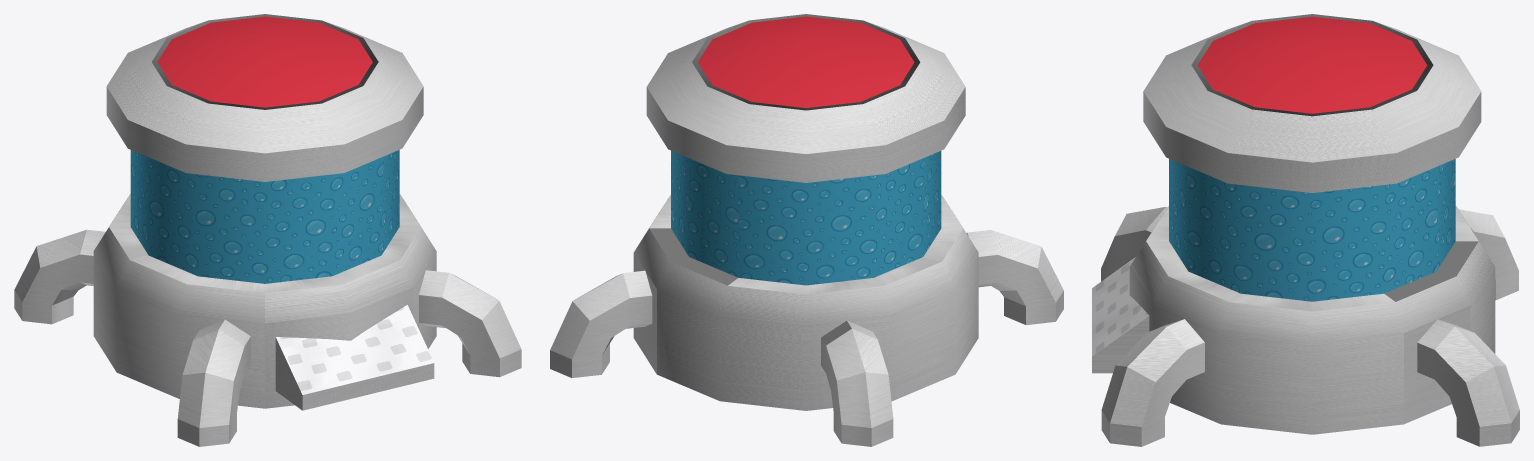
File: Capsula.obj
3 renders of one model, left to right at view 1: azimuth 30°, elevation 25°; view 2: azimuth 150°, elevation 25°; view 3: azimuth 270°, elevation 25°, orthographic. The views are drawn at different scales.
Visible parts, largest first — view 1: oak_lab:polySurface2polySurface2; view 2: oak_lab:polySurface2polySurface2; view 3: oak_lab:polySurface2polySurface2.
Part boxes in pixels (x1,y1,x2,y2): oak_lab:polySurface2polySurface2: [14, 14, 521, 446]; oak_lab:polySurface2polySurface2: [550, 14, 1063, 446]; oak_lab:polySurface2polySurface2: [1092, 14, 1519, 446].
Size of the model in its own units: 7.29 by 6.17 by 7.54.
Materials: 6 (4 with a texture image).
